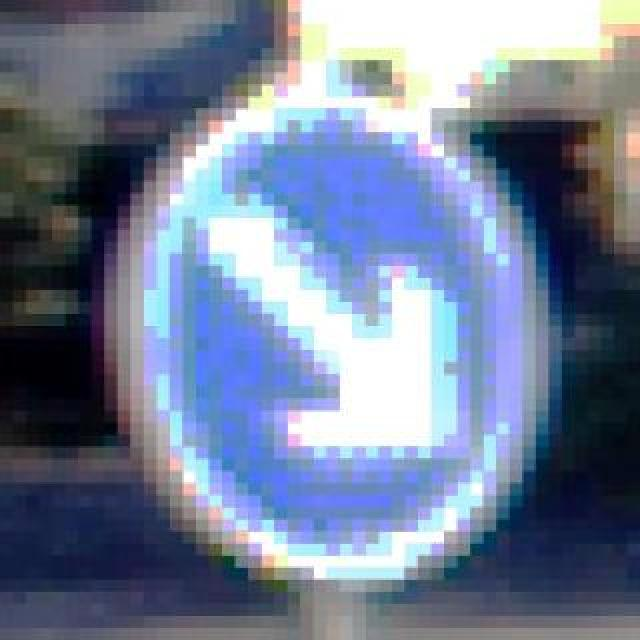50 kph: (106, 72, 550, 592)
